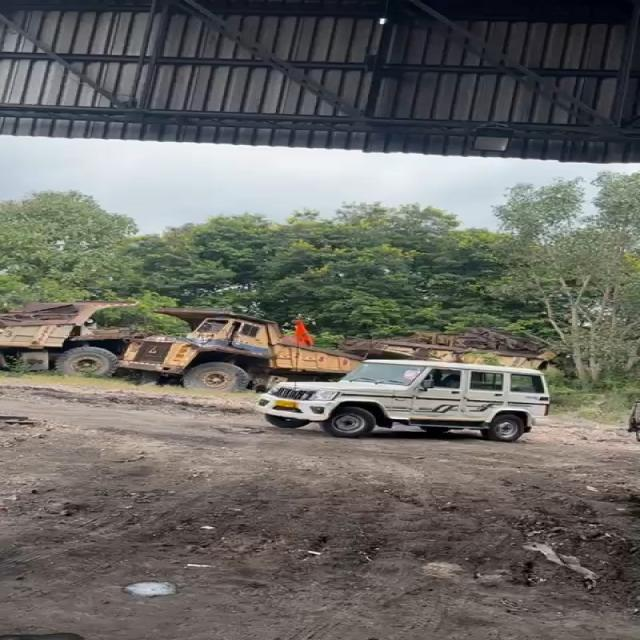dump_truck: (128, 306, 276, 385), (7, 298, 120, 379)
light_vehicle: (274, 355, 553, 444)
